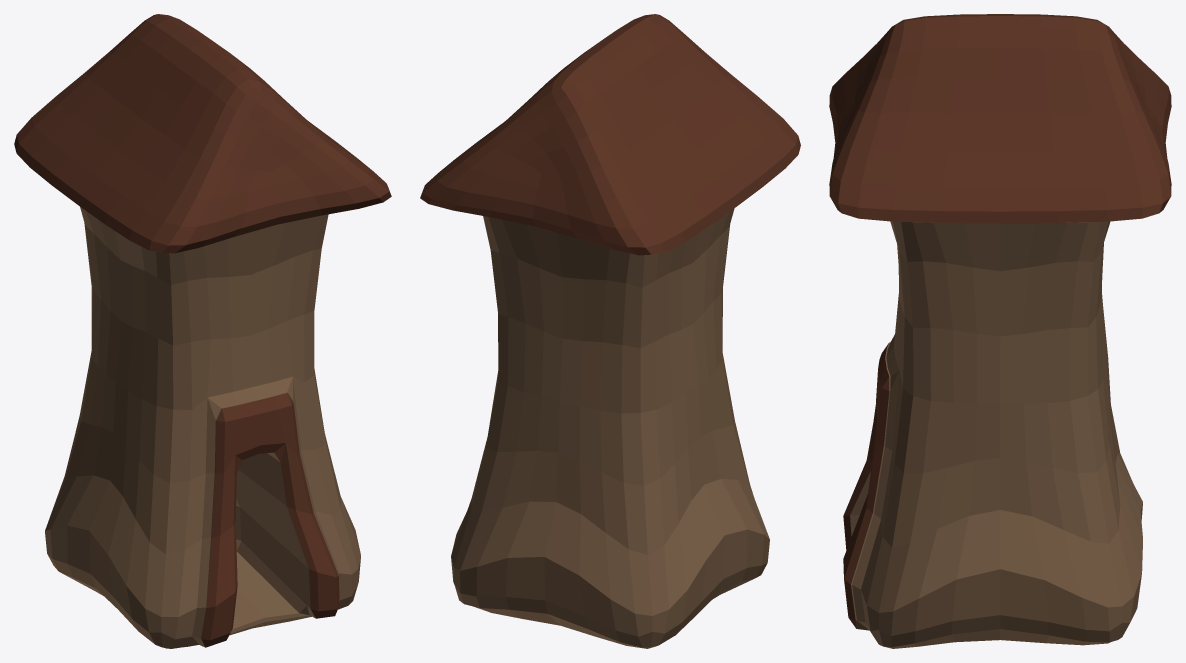
Rendered from tower2.fbx.
The picture shows the model from 3 angles, left to right: view 1: azimuth 30°, elevation 25°; view 2: azimuth 150°, elevation 25°; view 3: azimuth 270°, elevation 25°; orthographic projection. The views are drawn at different scales.
Parts seen in each view (by area): view 1: Cube, Cube.001; view 2: Cube, Cube.001; view 3: Cube, Cube.001.
Part boxes in pixels (left/top/right/bottom): Cube: left=45, top=207, right=360, bottom=648; Cube.001: left=14, top=14, right=391, bottom=253; Cube: left=451, top=208, right=769, bottom=648; Cube.001: left=420, top=14, right=800, bottom=255; Cube: left=843, top=221, right=1142, bottom=648; Cube.001: left=829, top=14, right=1171, bottom=223.
Size of the model in its own units: 210 by 444 by 233.
